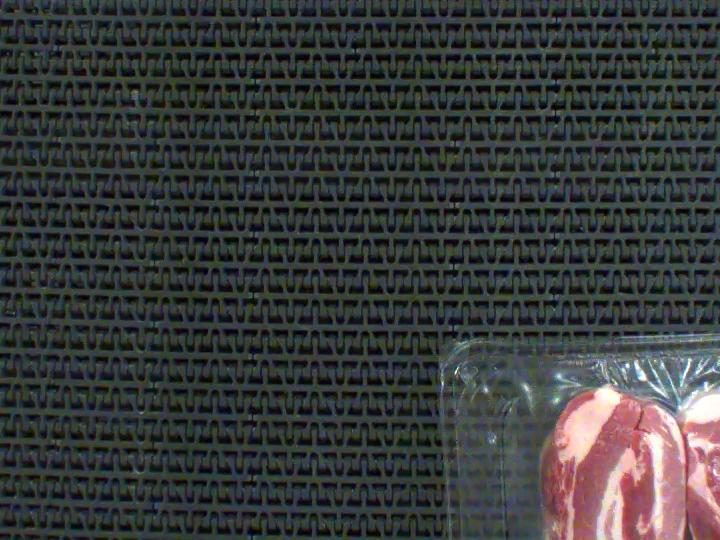unsealed: (486, 360, 720, 540)
